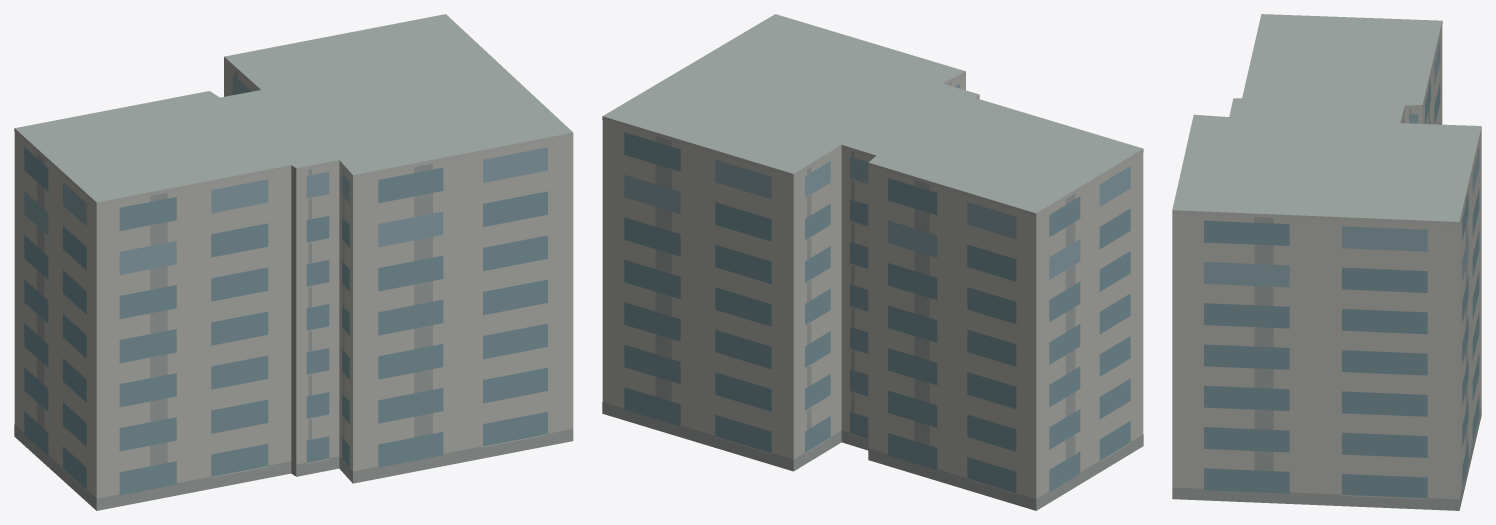
Rendered from survey-upis-32551784.glb.
3 views of the same model, side by side, from view 1: azimuth 30°, elevation 25°; view 2: azimuth 150°, elevation 25°; view 3: azimuth 270°, elevation 25° (orthographic). The views are drawn at different scales.
Visible parts, largest first — view 1: survey-upis-32551784.tmp; view 2: survey-upis-32551784.tmp; view 3: survey-upis-32551784.tmp.
Boxes of the visible parts, box(x1,y1,x2,y2) form: survey-upis-32551784.tmp: box(14, 14, 573, 510); survey-upis-32551784.tmp: box(602, 14, 1143, 510); survey-upis-32551784.tmp: box(1172, 14, 1481, 510).
Size of the model in its own units: 30.58 by 19.8 by 19.23.
